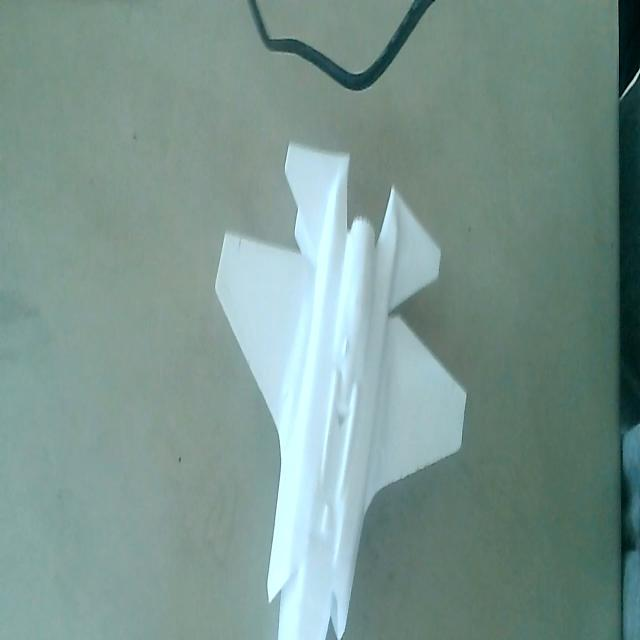Jet: (213, 134, 472, 640)
